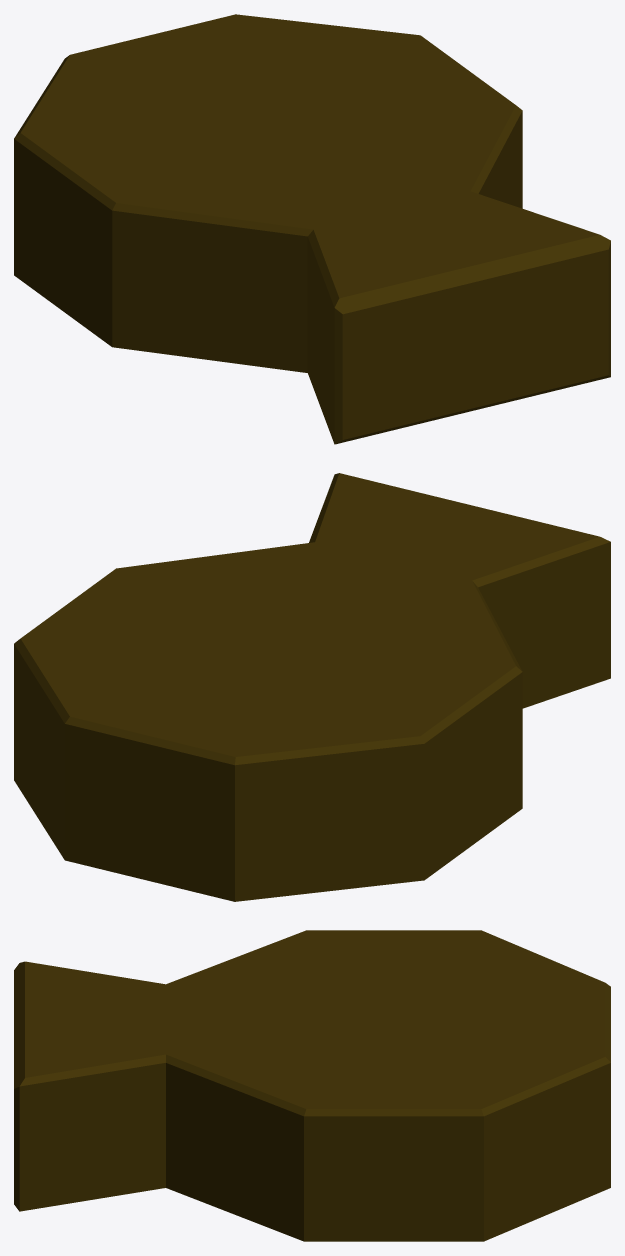
Rendered from 8CenterTab.fbx.
The picture shows the model from 3 angles, top to bottom: view 1: azimuth 30°, elevation 25°; view 2: azimuth 150°, elevation 25°; view 3: azimuth 270°, elevation 25°; orthographic projection. The views are drawn at different scales.
Parts seen in each view (by area): view 1: Empty_Mesh; view 2: Empty_Mesh; view 3: Empty_Mesh.
Part boxes in pixels (bbox=[...]): Empty_Mesh: bbox=[14, 14, 610, 444]; Empty_Mesh: bbox=[14, 473, 610, 901]; Empty_Mesh: bbox=[14, 930, 610, 1241].
Size of the model in its own units: 3.99 by 1.32 by 5.49.
